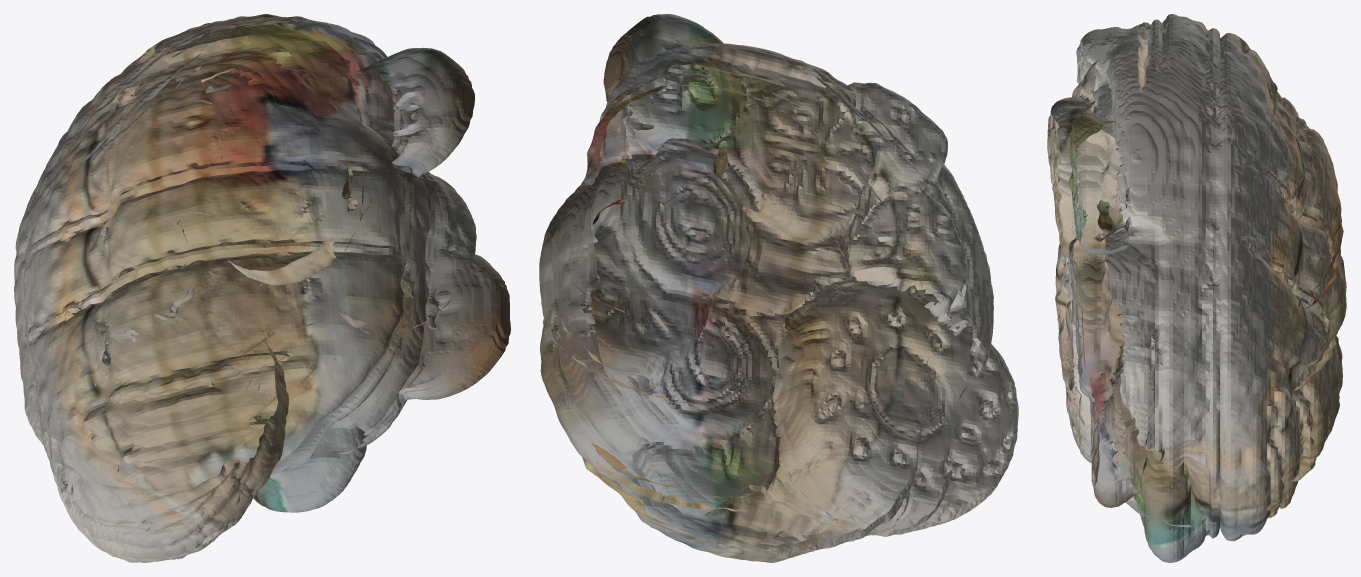
3 renders of one model, left to right at view 1: azimuth 30°, elevation 25°; view 2: azimuth 150°, elevation 25°; view 3: azimuth 270°, elevation 25°, orthographic. The views are drawn at different scales.
Visible parts, largest first — view 1: world; view 2: world; view 3: world.
Boxes of the visible parts, x1,y1,x2,y2 form: world: (14, 14, 510, 562); world: (539, 14, 1018, 562); world: (1047, 14, 1346, 562).
Size of the model in its own units: 0.9778 by 1.02 by 0.5657.
